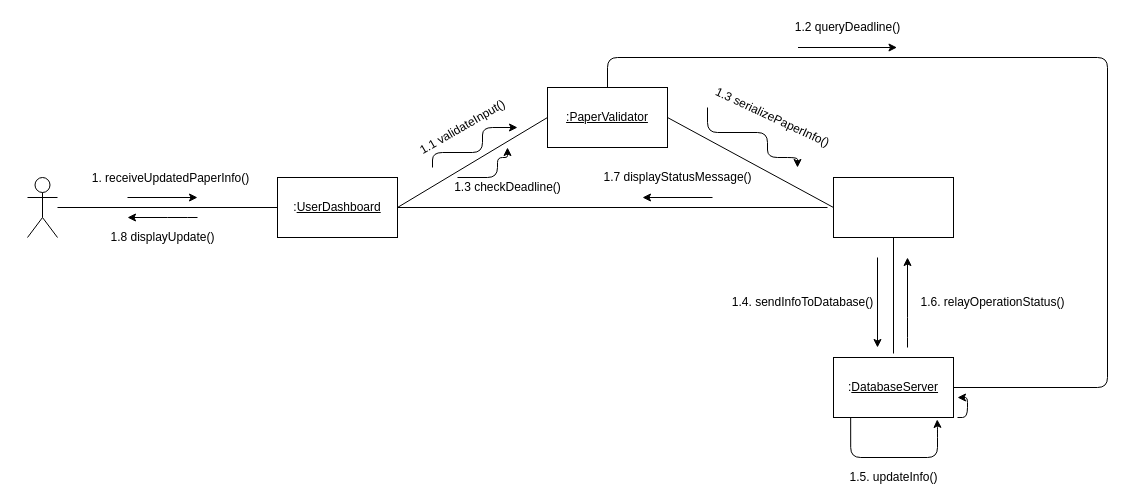
This 1126x504 diagram has some shape labels left out. The shapes that lost their labels are listed below. From the top down, each one's box as (x1, y1, x2, y2) in pixels, then its label:
(26, 176, 58, 238): Publisher
(832, 176, 954, 238): : BackendService
